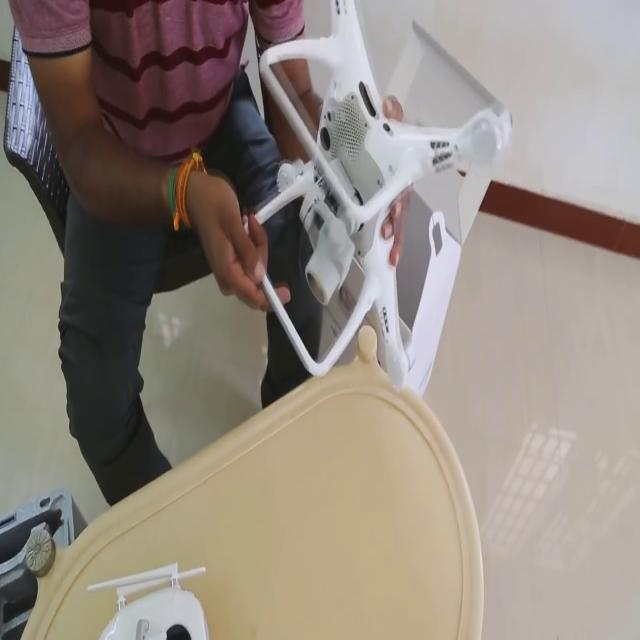drone: (254, 0, 516, 405)
